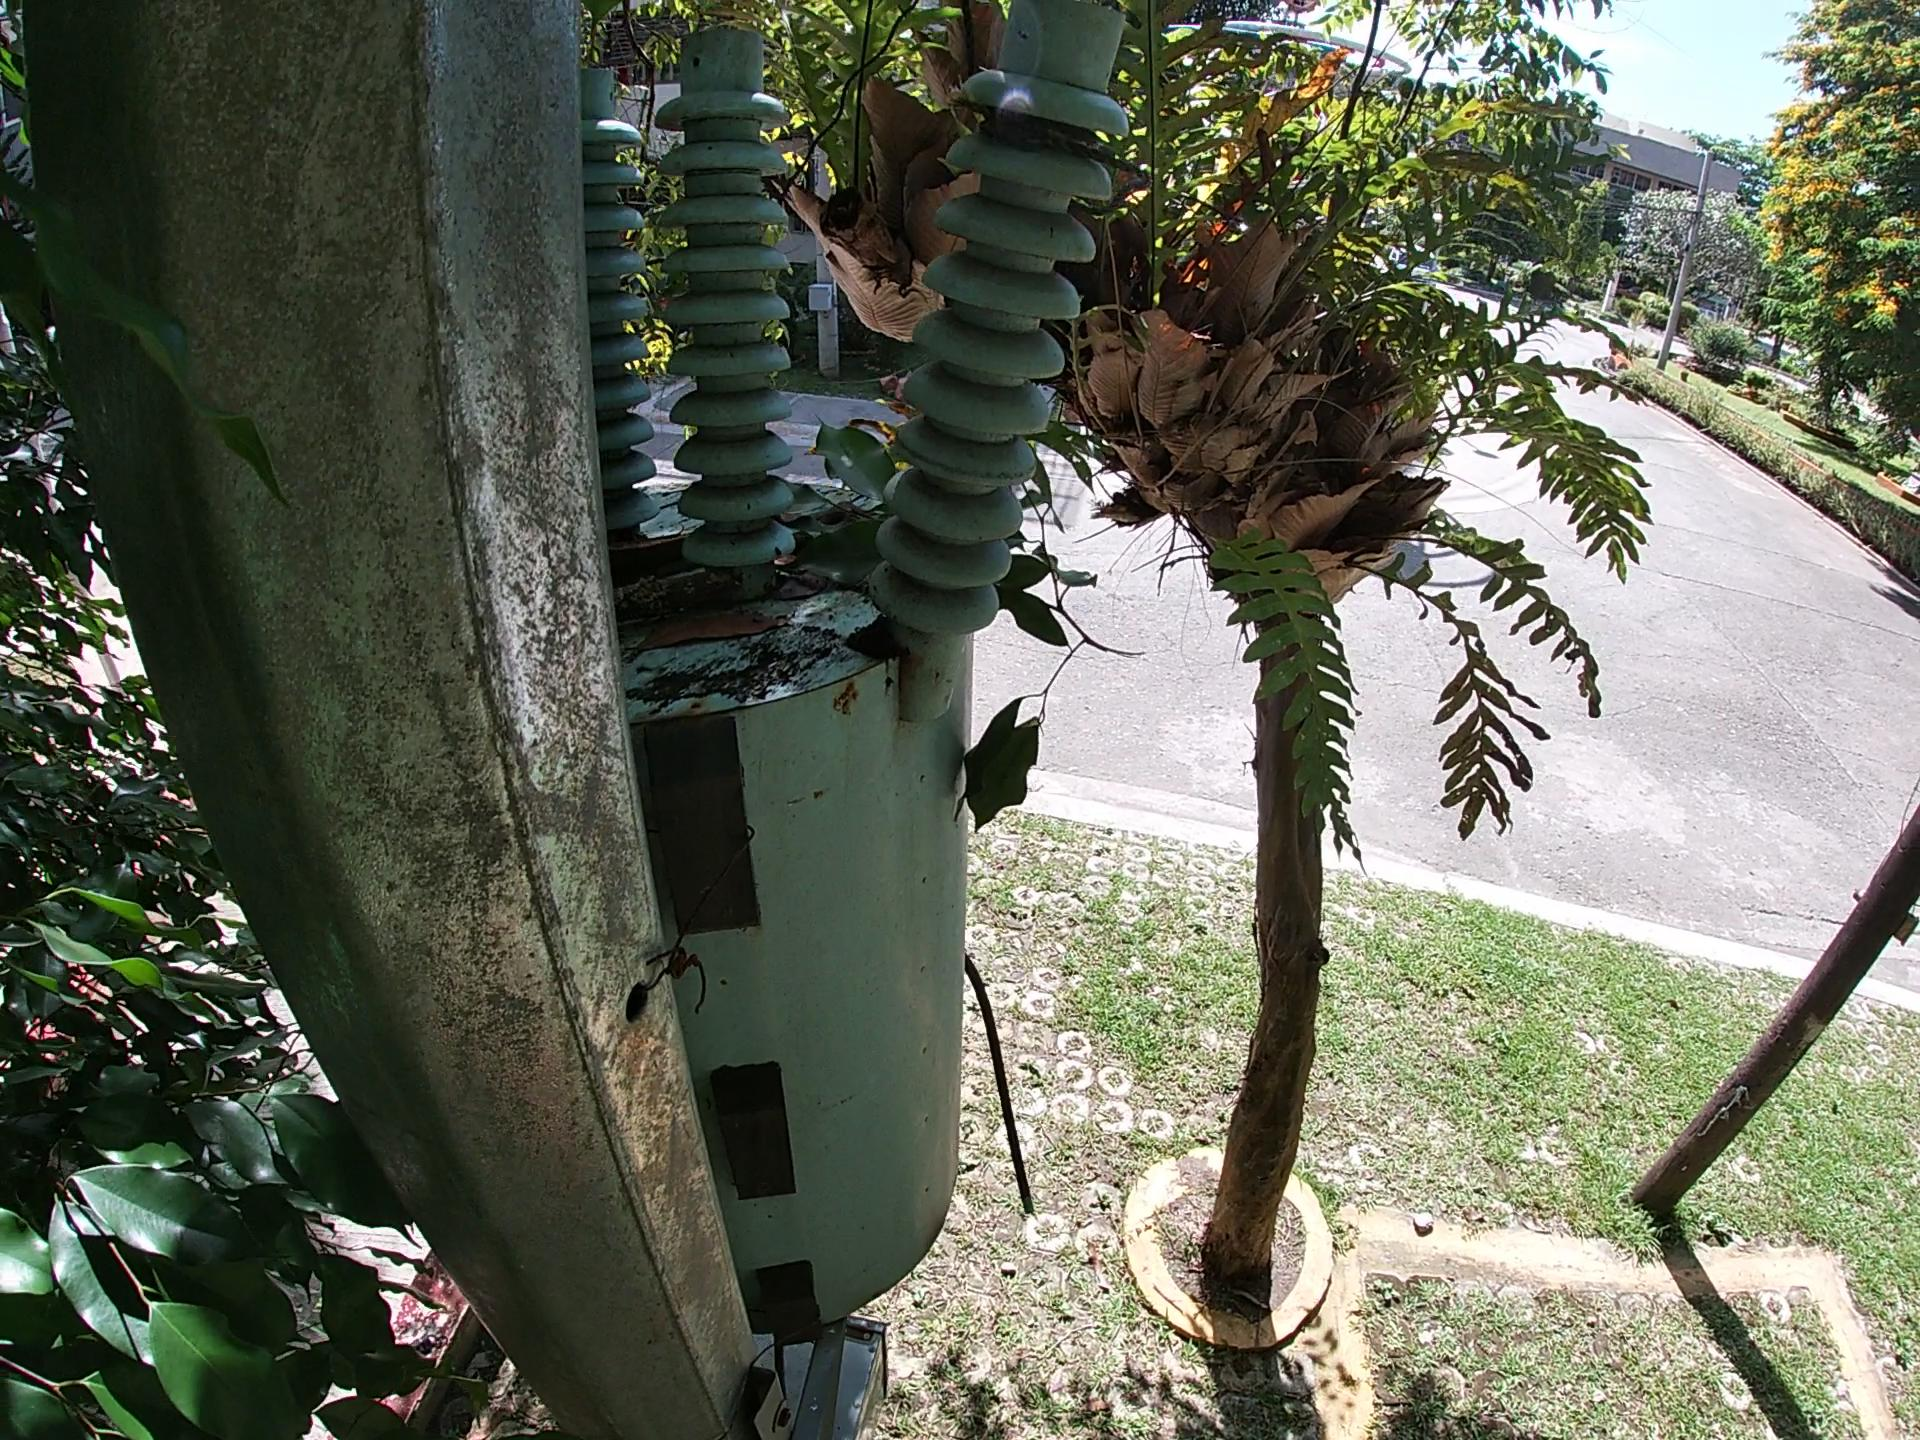leaf: (788, 416, 903, 566), (627, 601, 788, 653)
mahogany fruit: (963, 401, 1129, 882), (600, 526, 700, 555)
tree branch: (608, 567, 750, 594)
